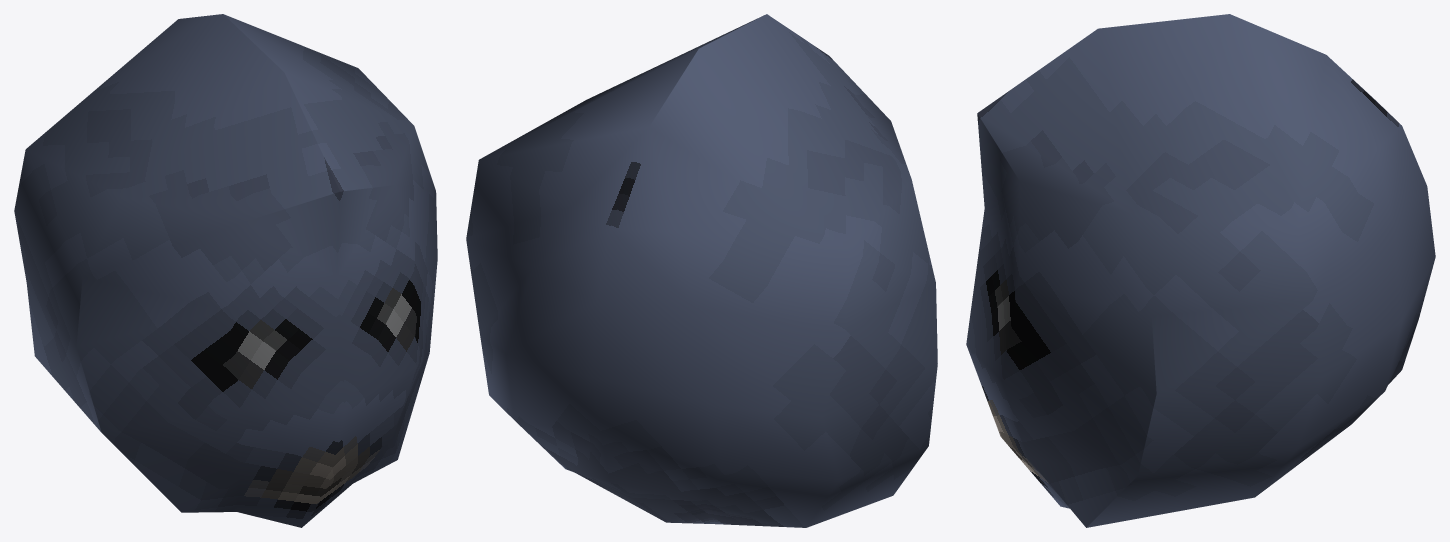
File: MOD_Shade.fbx
The picture shows the model from 3 angles, left to right: view 1: azimuth 30°, elevation 25°; view 2: azimuth 150°, elevation 25°; view 3: azimuth 270°, elevation 25°; orthographic projection. The views are drawn at different scales.
Parts seen in each view (by area): view 1: MOD_Shade_Head; view 2: MOD_Shade_Head; view 3: MOD_Shade_Head.
Boxes of the visible parts, x1,y1,x2,y2 form: MOD_Shade_Head: [14, 14, 437, 527]; MOD_Shade_Head: [466, 14, 937, 527]; MOD_Shade_Head: [966, 14, 1435, 527].
Bounding box in the file's own units: 53.55 × 64.67 × 55.86.
Materials: 1 (1 with a texture image).
